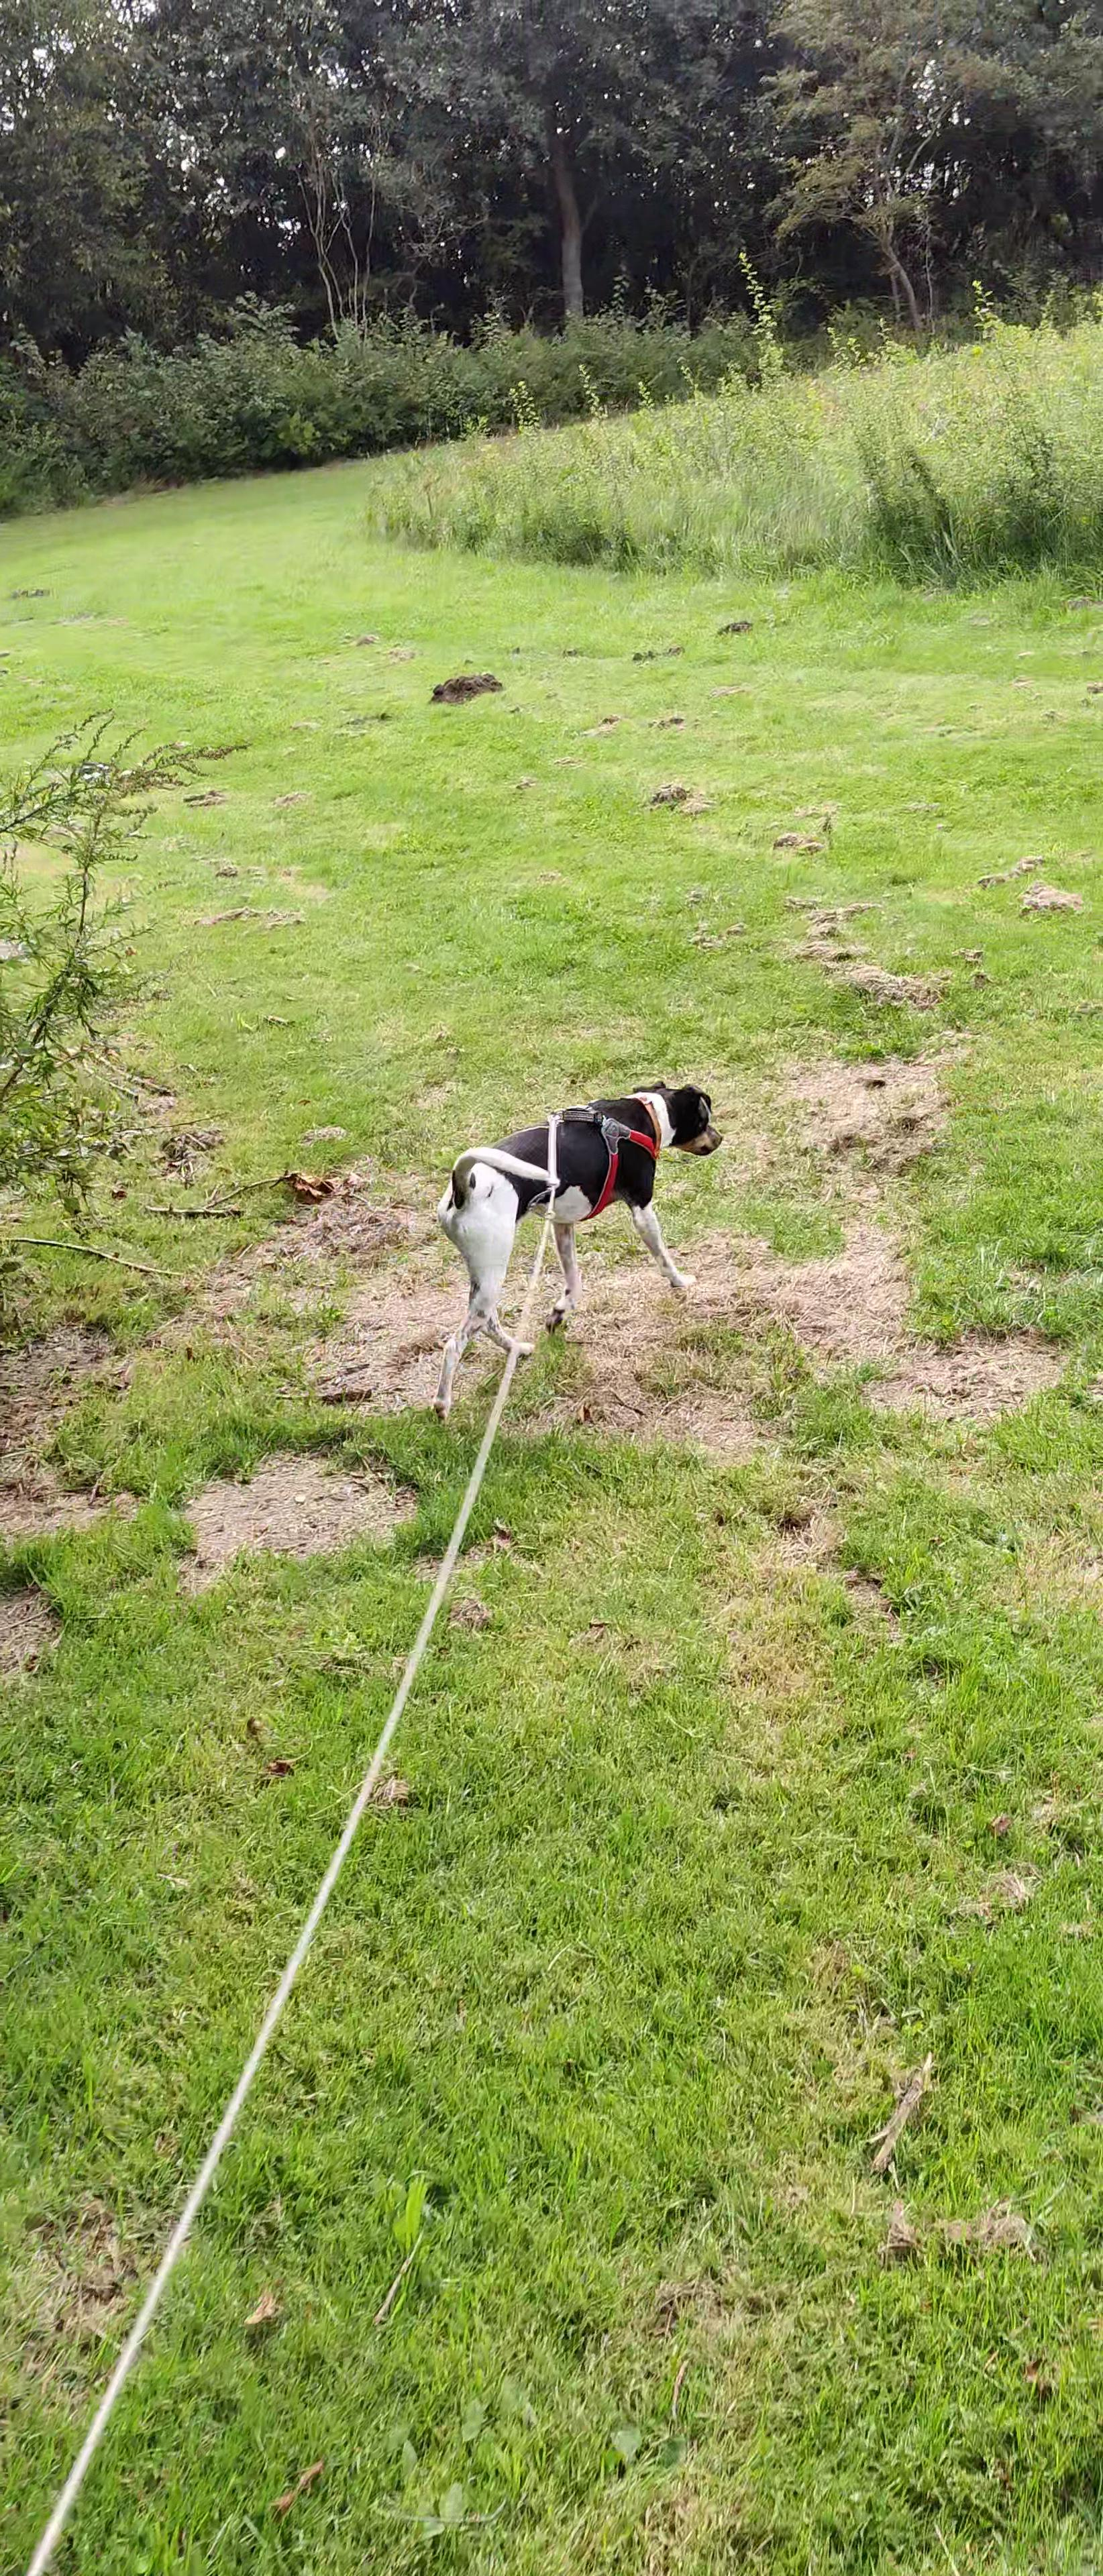Dog: (421, 1073, 730, 1426)
